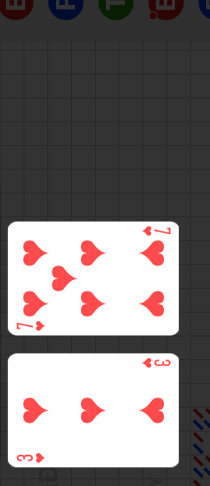3H: (16, 451, 48, 464)
7H: (140, 225, 172, 238)
